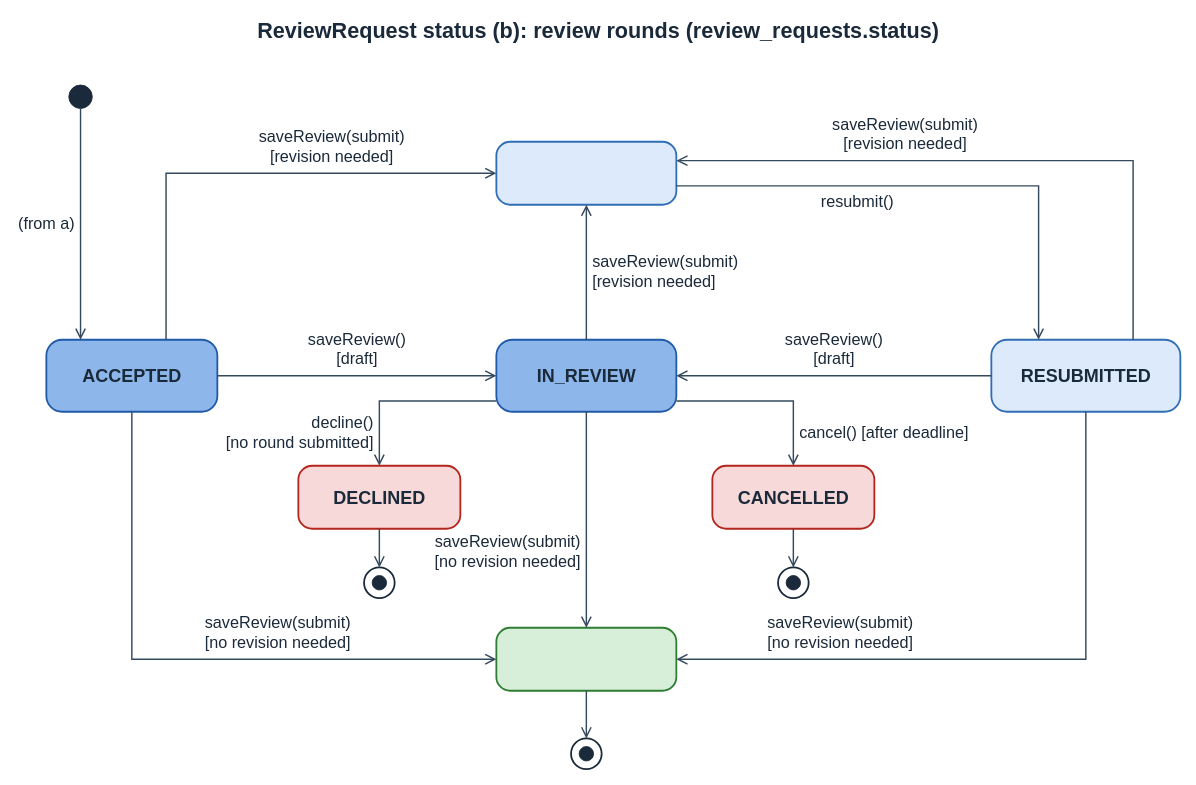
This 1196x785 diagram has some shape labels left out. The centre of each missing label's shape, as x and y in pixels:
"COMPLETED" goes at point 586,658.
"REVISION_ REQUESTED" goes at point 586,172.
